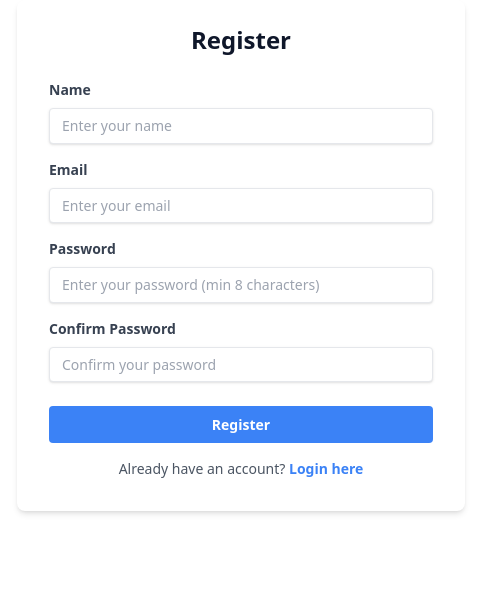
RegisterForm › should clear field error when user starts typing
Click the button "Register" at (241, 424), box [49,406,433,443]
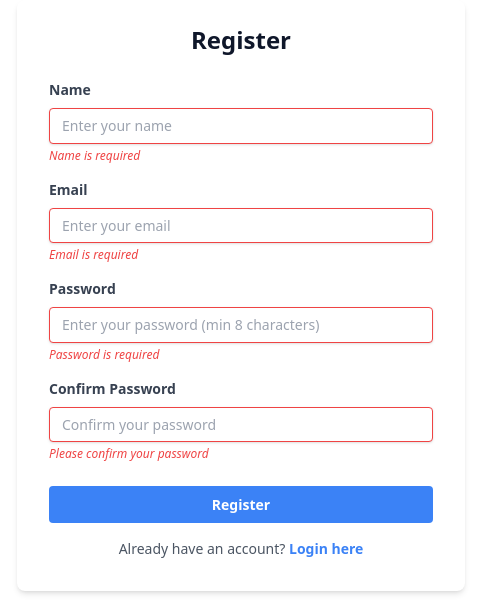
Expected: the text "Name is required" is shown, [49,146,140,164]
Type "John" into the field labelled "Name" at (241, 126), box [49,108,433,144]
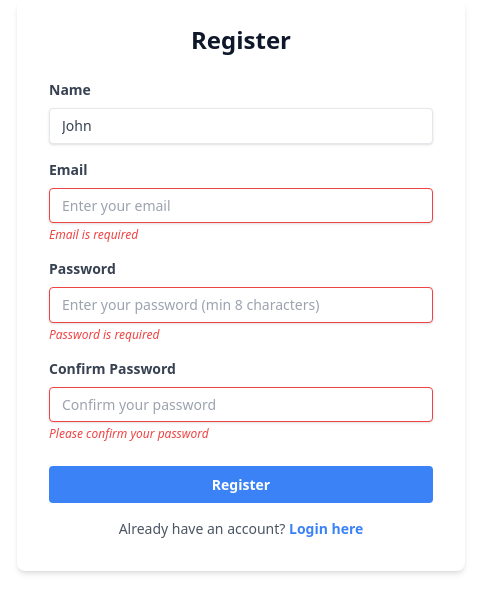
Expected: the text "Name is required" is gone
